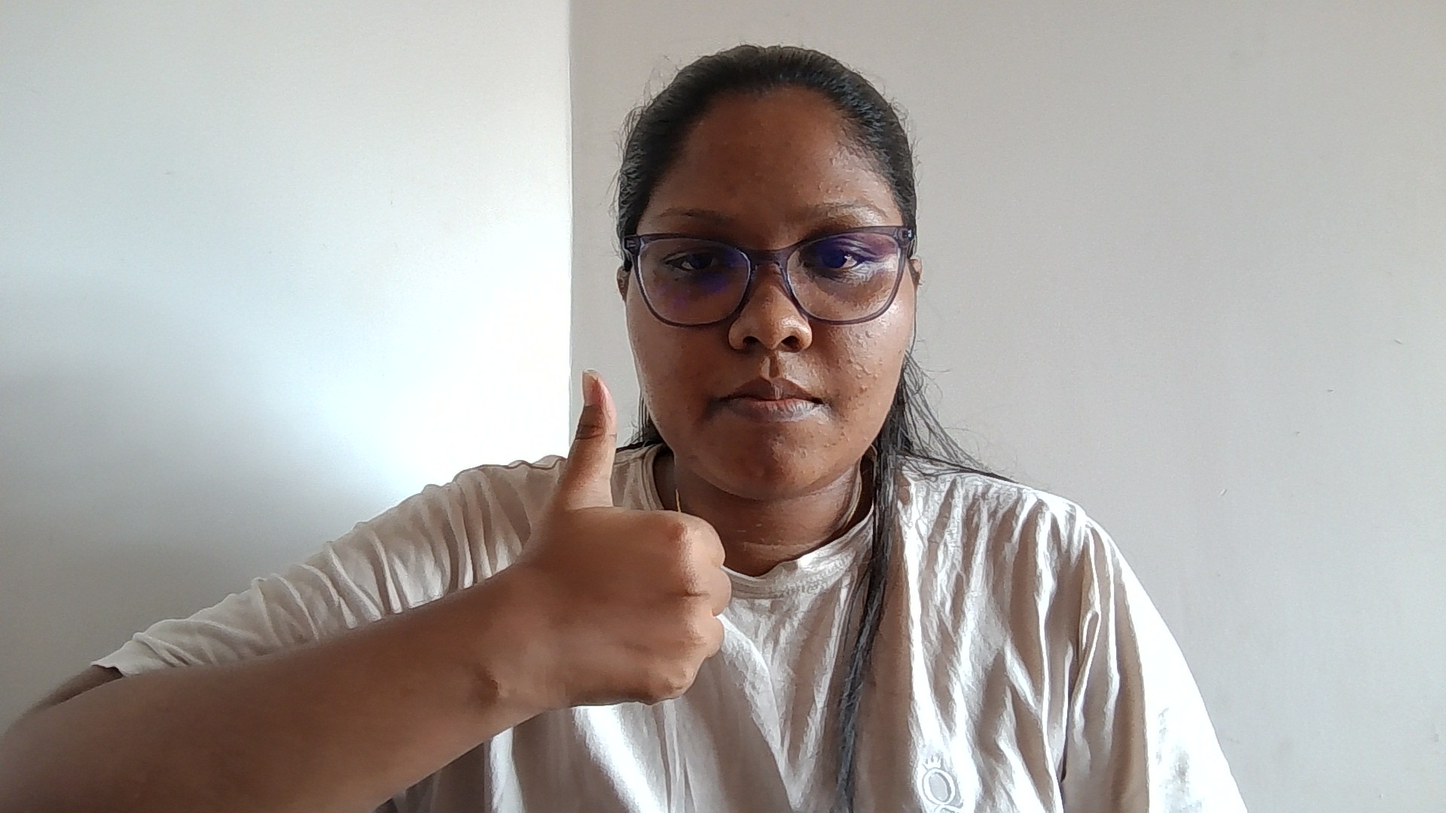Thumbs Up: (474, 318, 758, 779)
